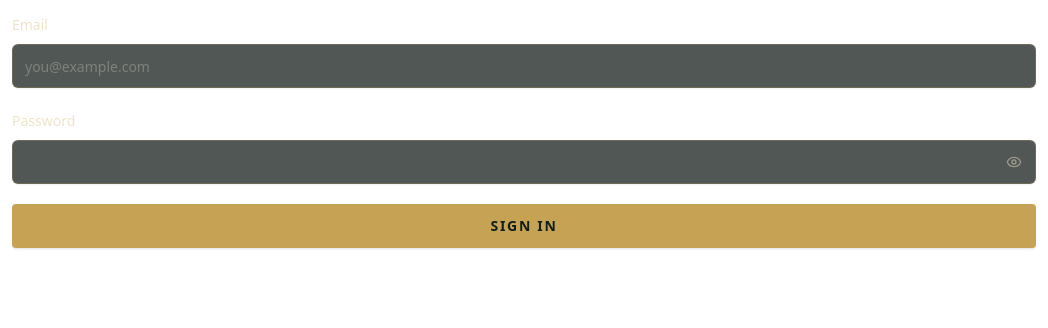
LogInForm › shows a friendly inline login error
Type "player@example.com" into the field labelled "Email".
click(524, 66); type("player@example.com")  # box [12,44,1036,88]
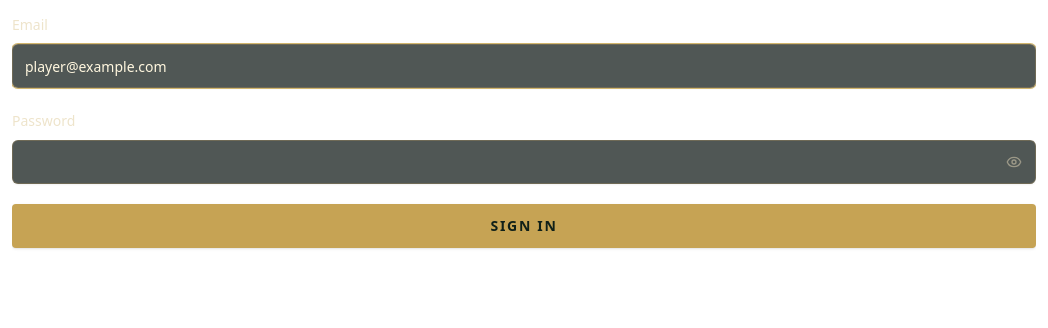
Type "password" into the password field labelled "Password".
click(524, 162); type("password")  # box [12,140,1036,184]
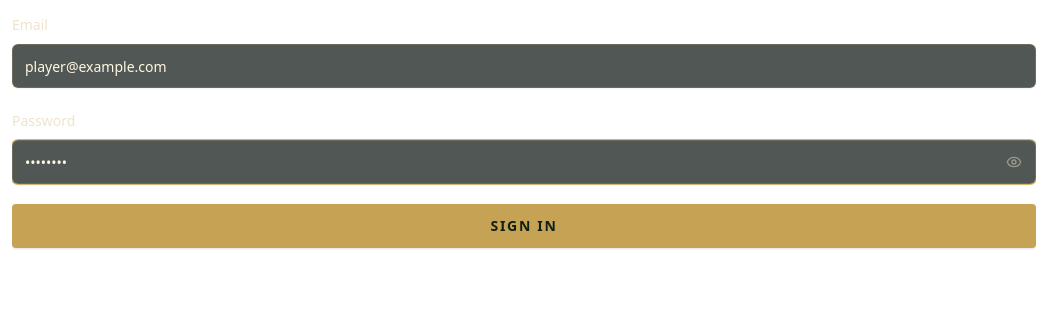
Click the button "SIGN IN".
click(524, 226)  # box [12,204,1036,248]
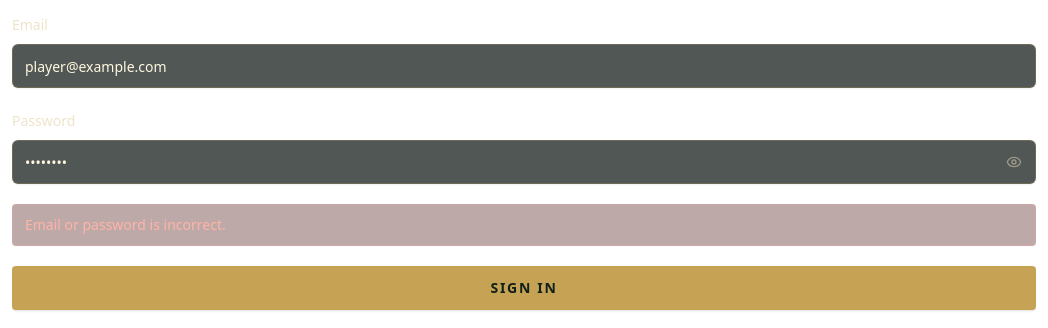
Now the message reads "Email or password is incorrect.", box [25,215,226,234]
